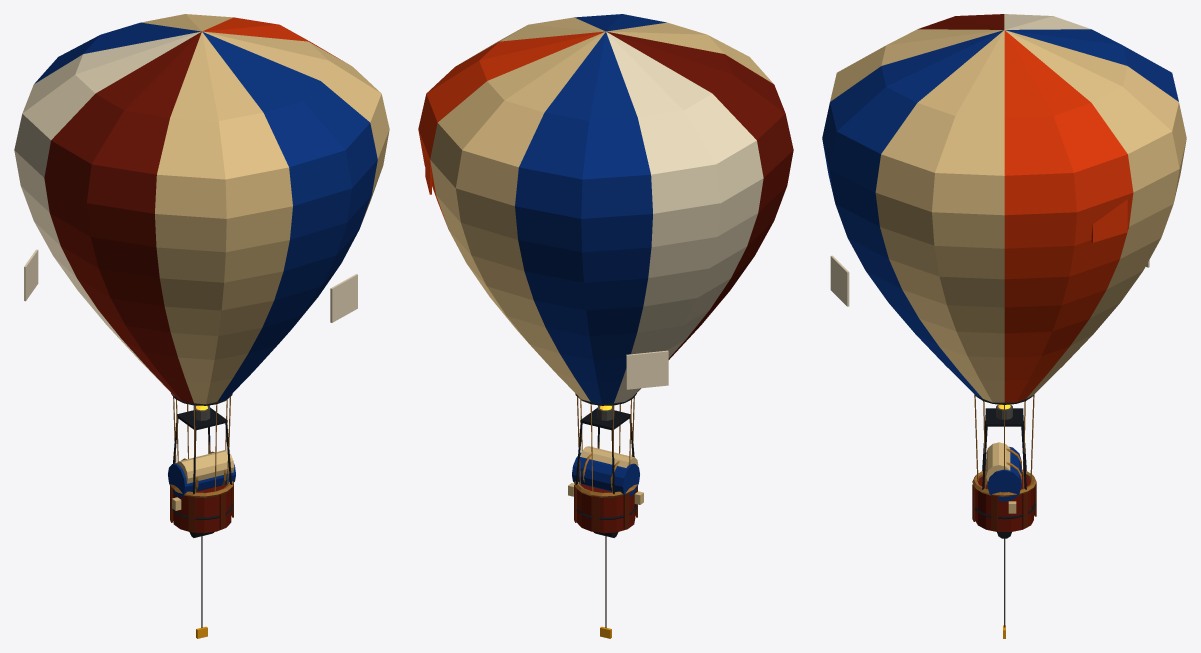
The model's file is tb_balloon.glb.
3 views of the same model, side by side, from view 1: azimuth 30°, elevation 25°; view 2: azimuth 150°, elevation 25°; view 3: azimuth 270°, elevation 25° (orthographic).
Visible parts, largest first — view 1: balloon_envelope_mesh, balloon_basket, balloon_stowed_mesh, balloon_burner_mesh; view 2: balloon_envelope_mesh, balloon_basket, balloon_stowed_mesh, balloon_burner_mesh; view 3: balloon_envelope_mesh, balloon_basket, balloon_stowed_mesh, balloon_burner_mesh.
Part boxes in pixels (left/top/right/bottom): balloon_envelope_mesh: left=14, top=14, right=389, bottom=492; balloon_basket: left=170, top=481, right=233, bottom=533; balloon_stowed_mesh: left=168, top=450, right=235, bottom=497; balloon_burner_mesh: left=173, top=405, right=232, bottom=494; balloon_envelope_mesh: left=418, top=14, right=793, bottom=492; balloon_basket: left=568, top=481, right=643, bottom=533; balloon_stowed_mesh: left=572, top=446, right=639, bottom=496; balloon_burner_mesh: left=575, top=405, right=634, bottom=494; balloon_envelope_mesh: left=822, top=14, right=1186, bottom=488; balloon_basket: left=972, top=469, right=1036, bottom=531; balloon_stowed_mesh: left=984, top=442, right=1021, bottom=501; balloon_burner_mesh: left=982, top=404, right=1026, bottom=489.
Size of the model in its own units: 6.78 by 12.44 by 6.78.
